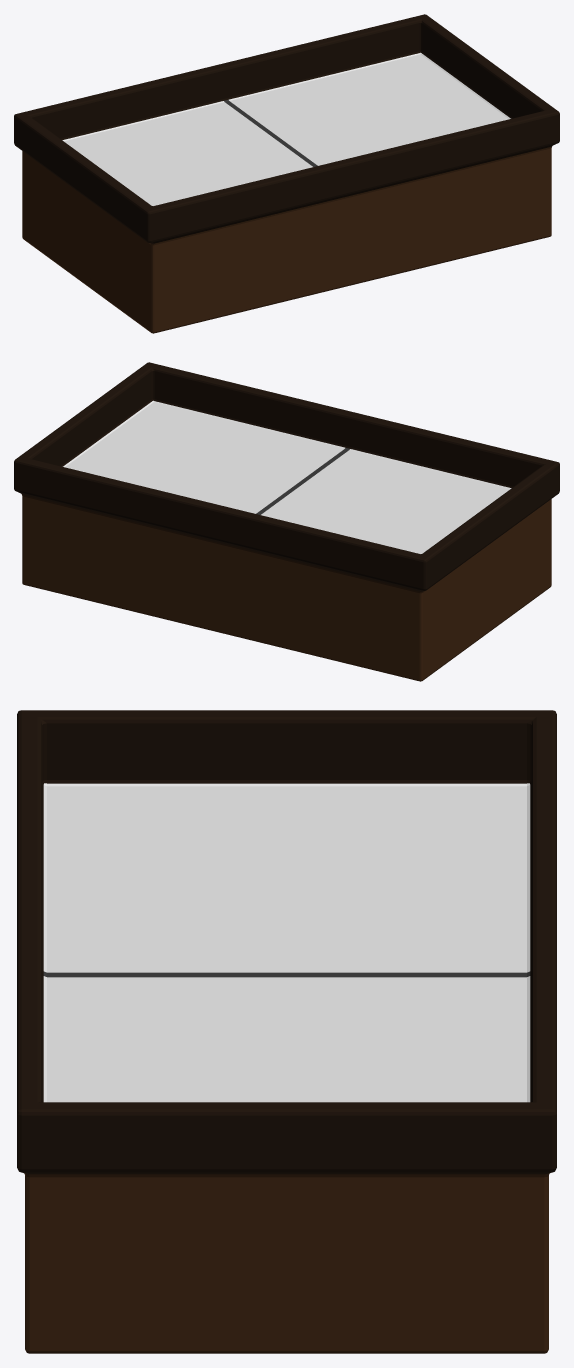
File: SM_GameTable.fbx
3 renders of one model, top to bottom at view 1: azimuth 30°, elevation 25°; view 2: azimuth 150°, elevation 25°; view 3: azimuth 270°, elevation 25°, orthographic. The views are drawn at different scales.
Parts seen in each view (by area): view 1: Table; view 2: Table; view 3: Table.
Boxes of the visible parts, x1,y1,x2,y2 form: Table: (14,14,559,333); Table: (14,362,559,681); Table: (17,710,556,1353).
Size of the model in its own units: 600 by 174 by 340.
